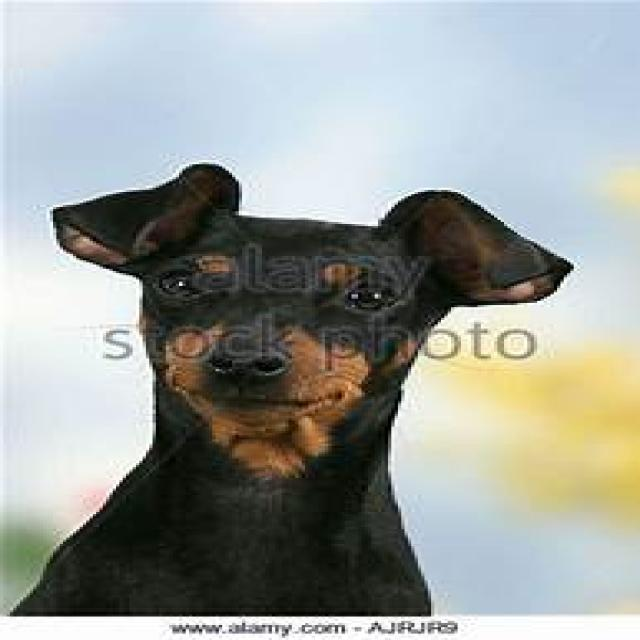dog: (14, 165, 573, 614)
